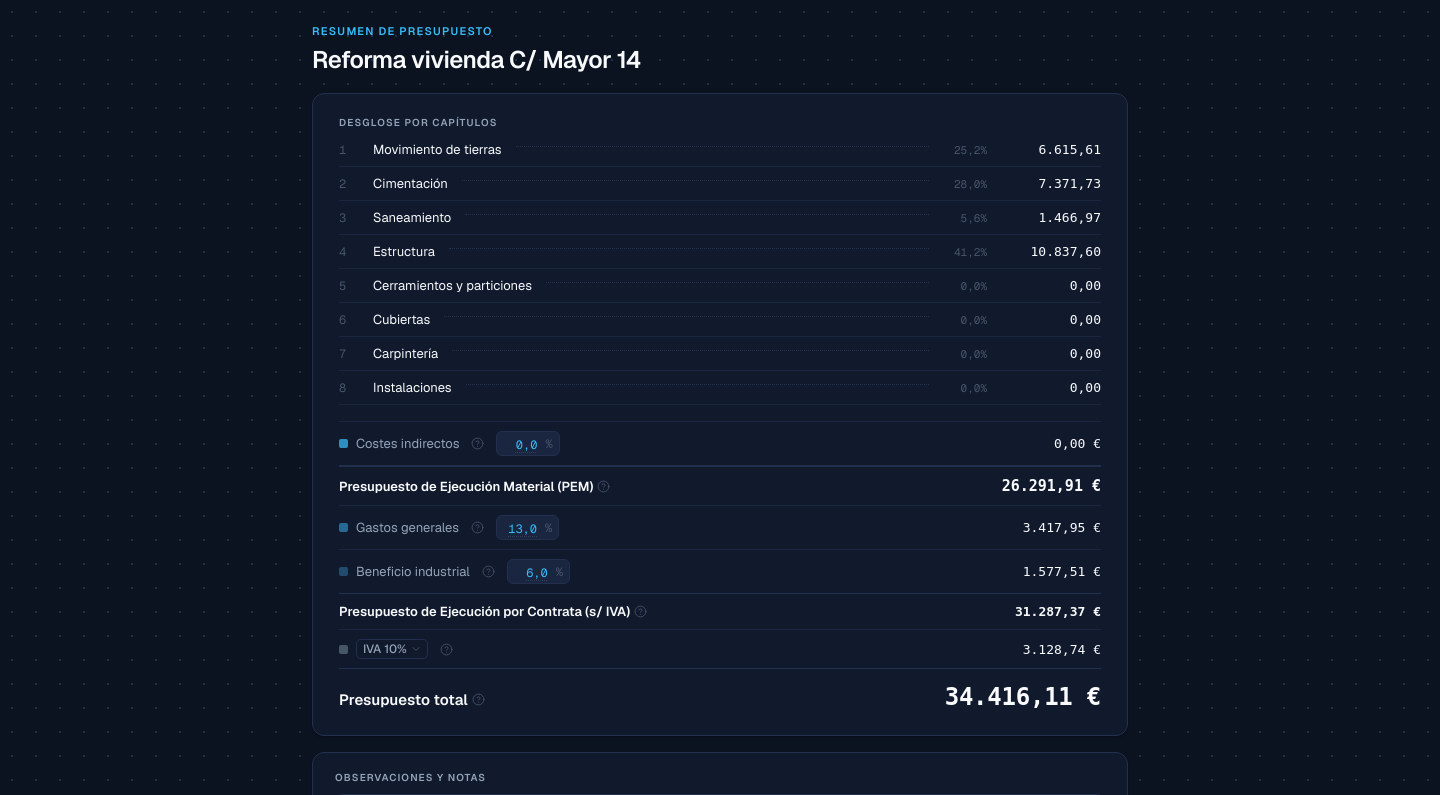
Test: ResumenView (F7.1) — hoja editable › editar el CI mueve el PEM y estrena la fila de costes directos
The width and height of the screenshot is (1440, 795).
Click the button named "Costes indirectos": (522, 445) [501,434,543,456]
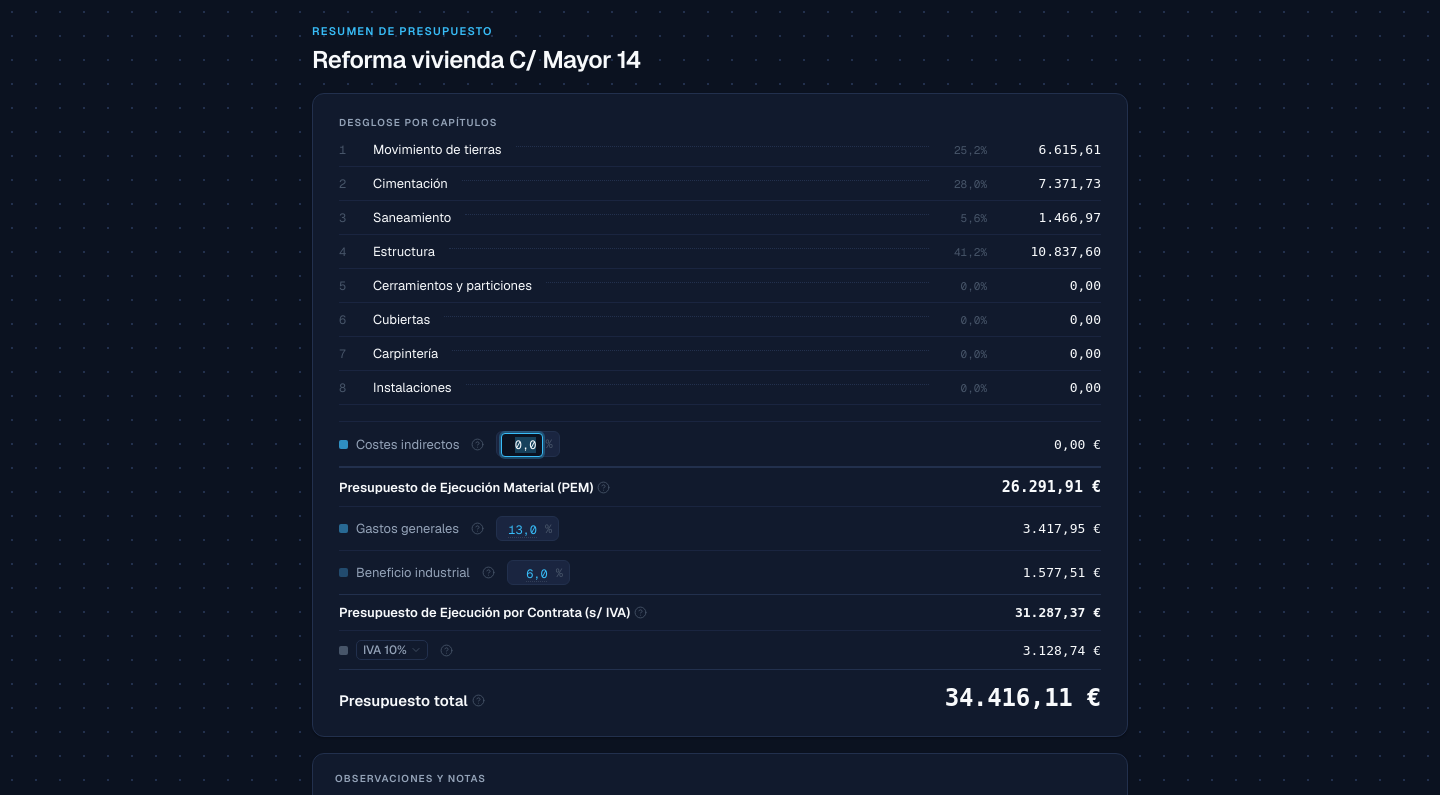
Replace the text in the field named "Costes indirectos" with "3": (522, 445) [501,433,543,457]
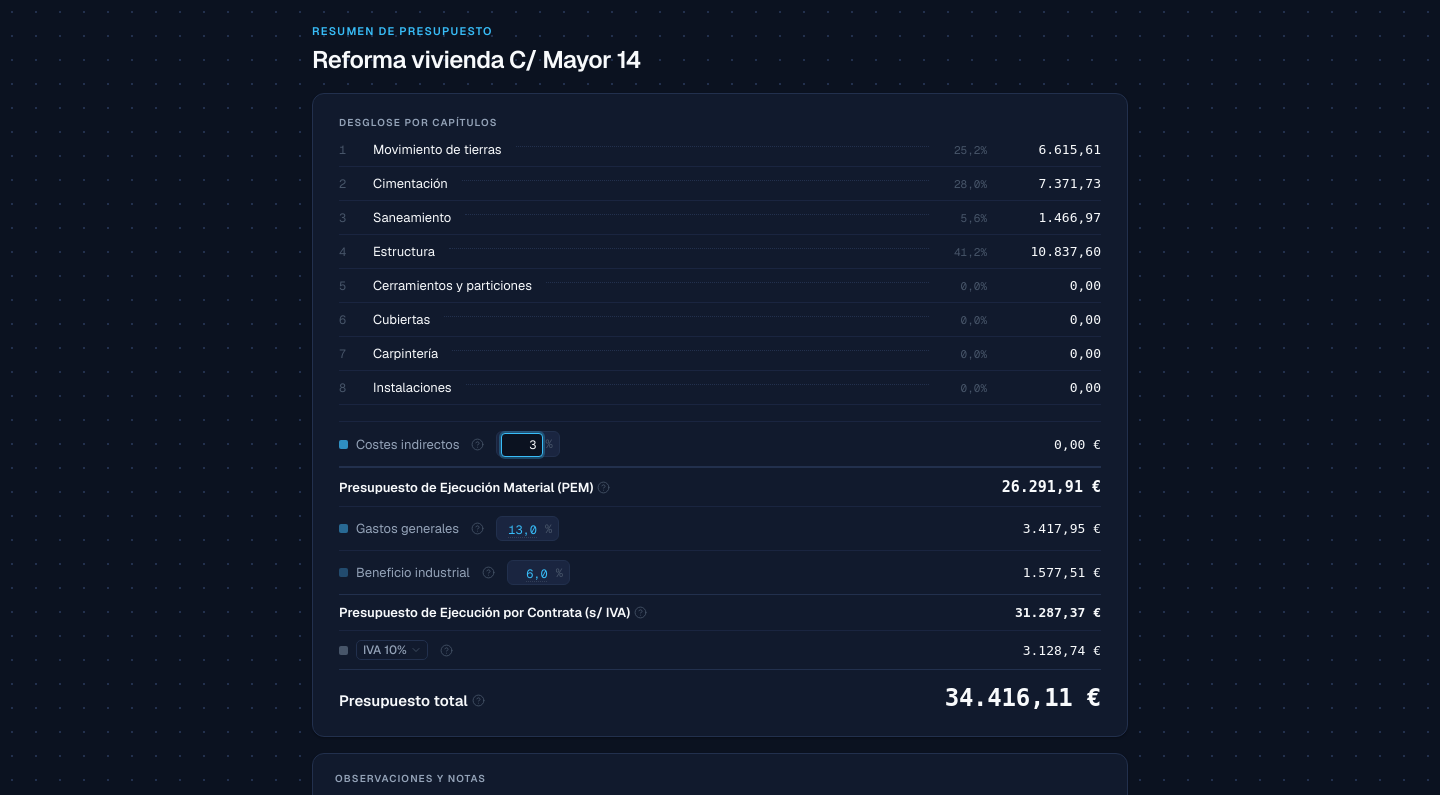
Press Enter in the field named "Costes indirectos", box [501,433,543,457]
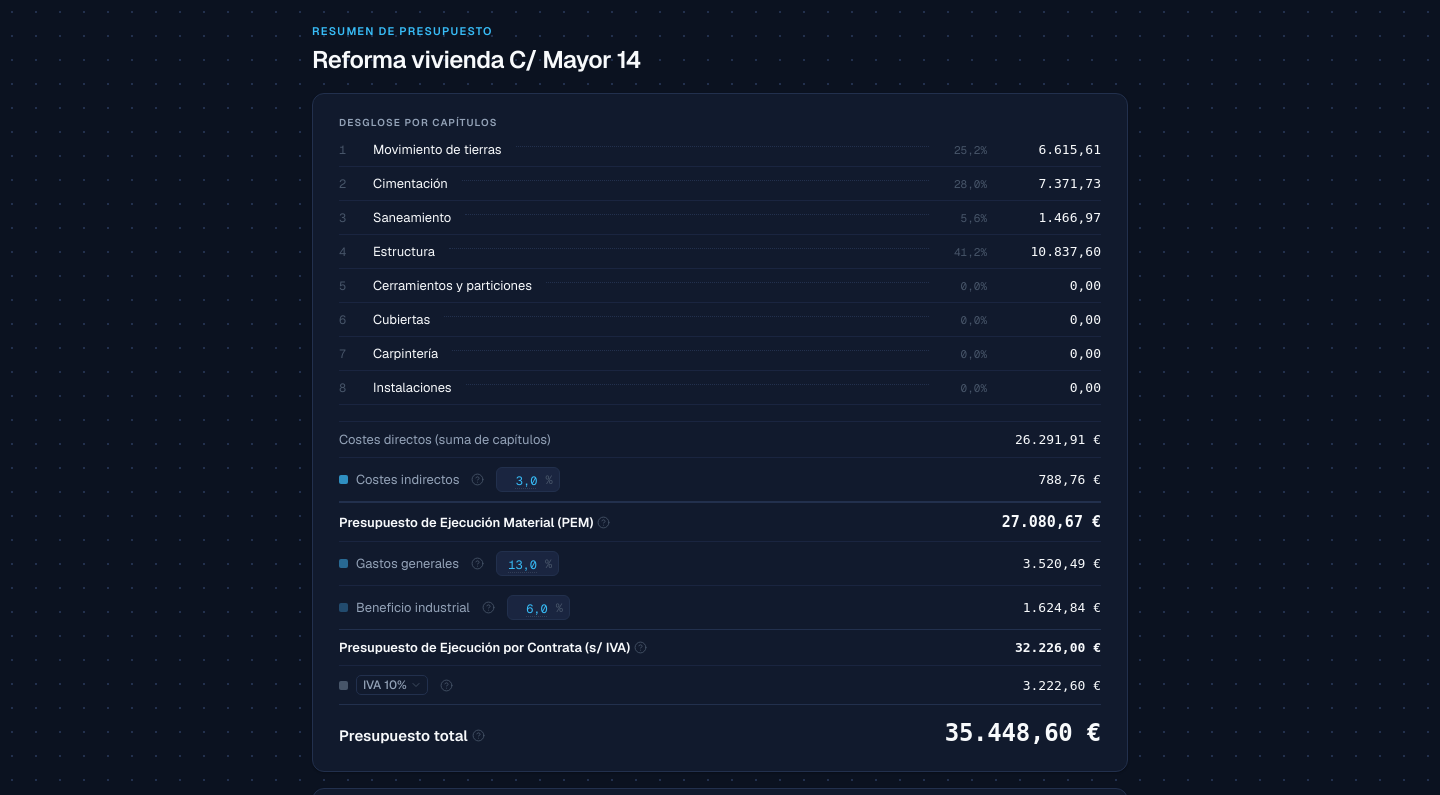
Result: the text "Costes directos (suma de capítulos)" is shown at [339,431,551,448]
Result: the text "788,76 €" is shown at [1038,472,1101,487]
Result: the text "27.080,67 €" is shown at [1002,513,1101,531]
